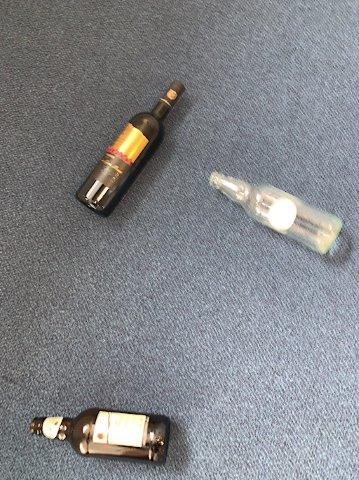botolkaca: (76, 80, 186, 218), (207, 170, 344, 255), (31, 407, 171, 464)
